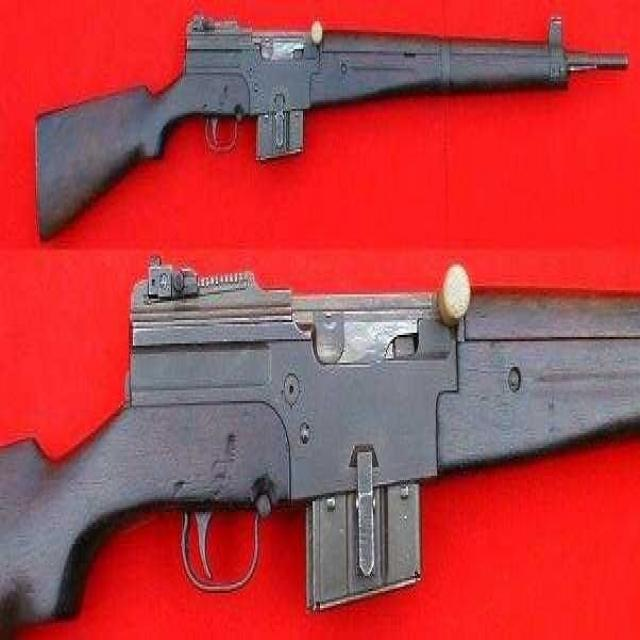weapon: (1, 264, 640, 640), (9, 0, 632, 245)
